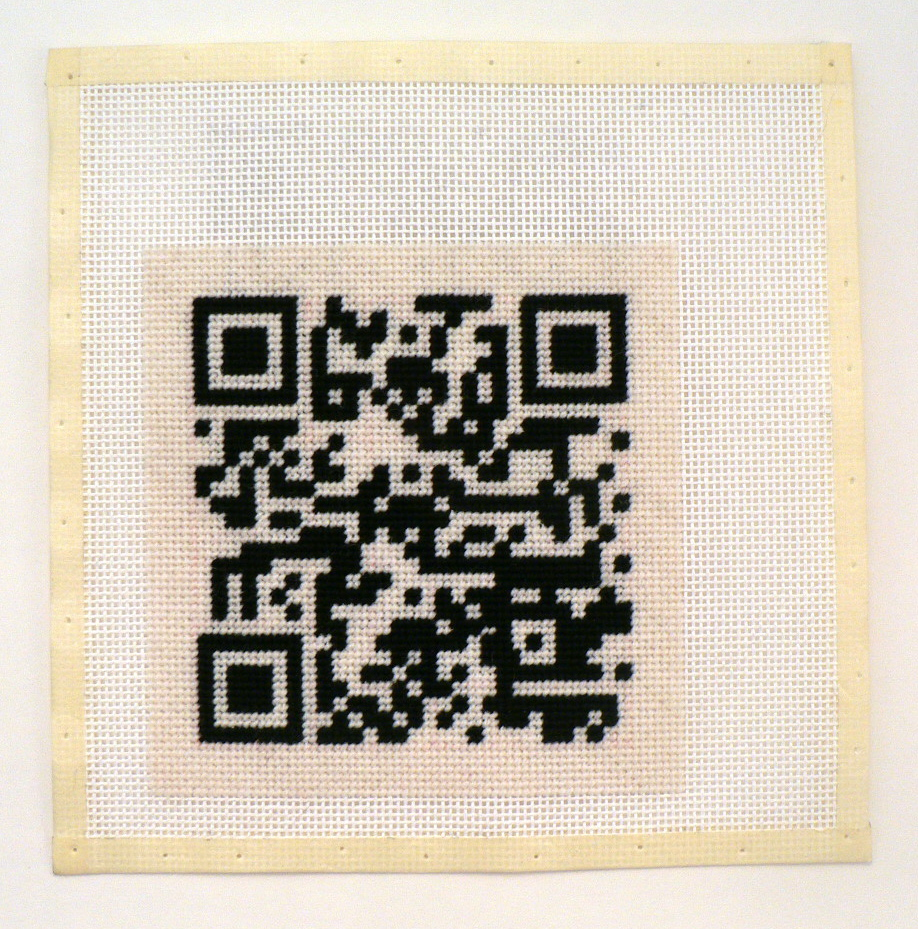QR-CODE: (192, 293, 632, 742)
